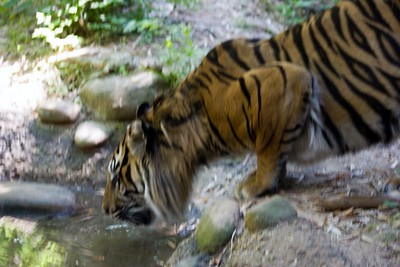Tigre: (87, 20, 394, 219)
